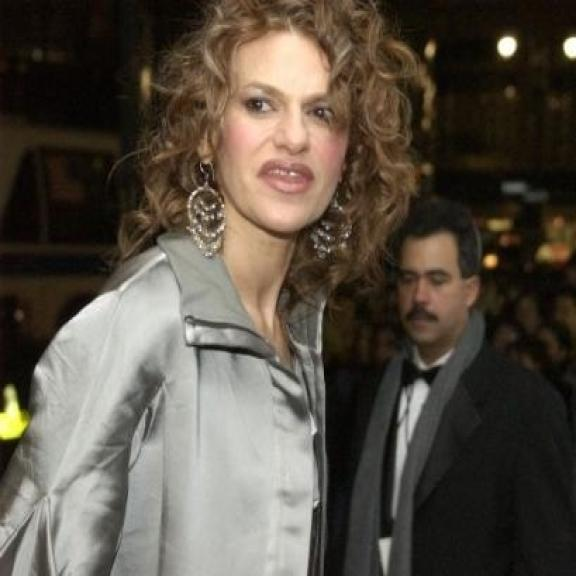face: (208, 0, 360, 242), (399, 206, 482, 349)
